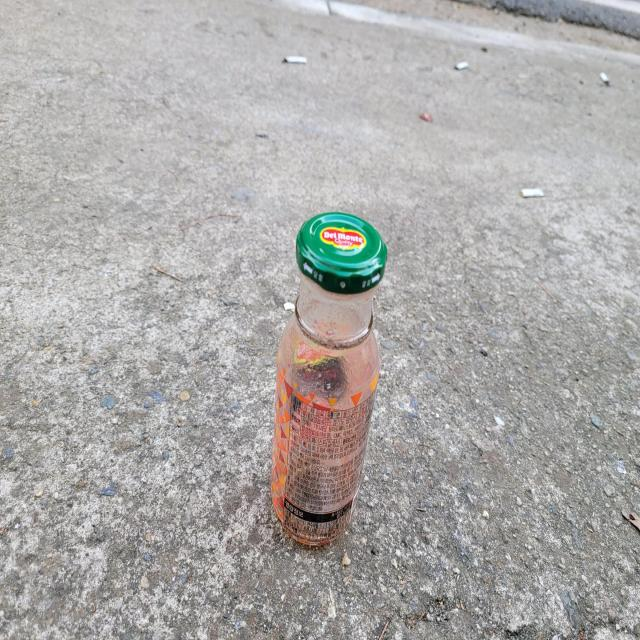glass: (271, 212, 388, 546)
